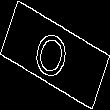O_SW: (33, 23, 77, 87)
